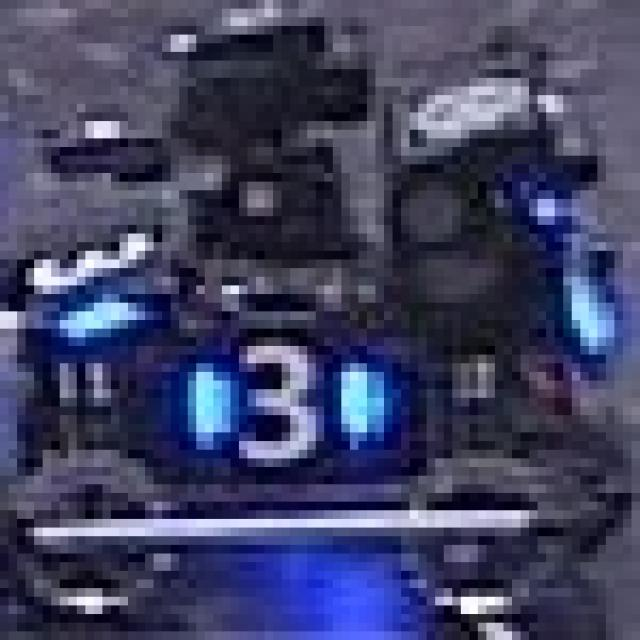B3: (171, 329, 367, 467)
